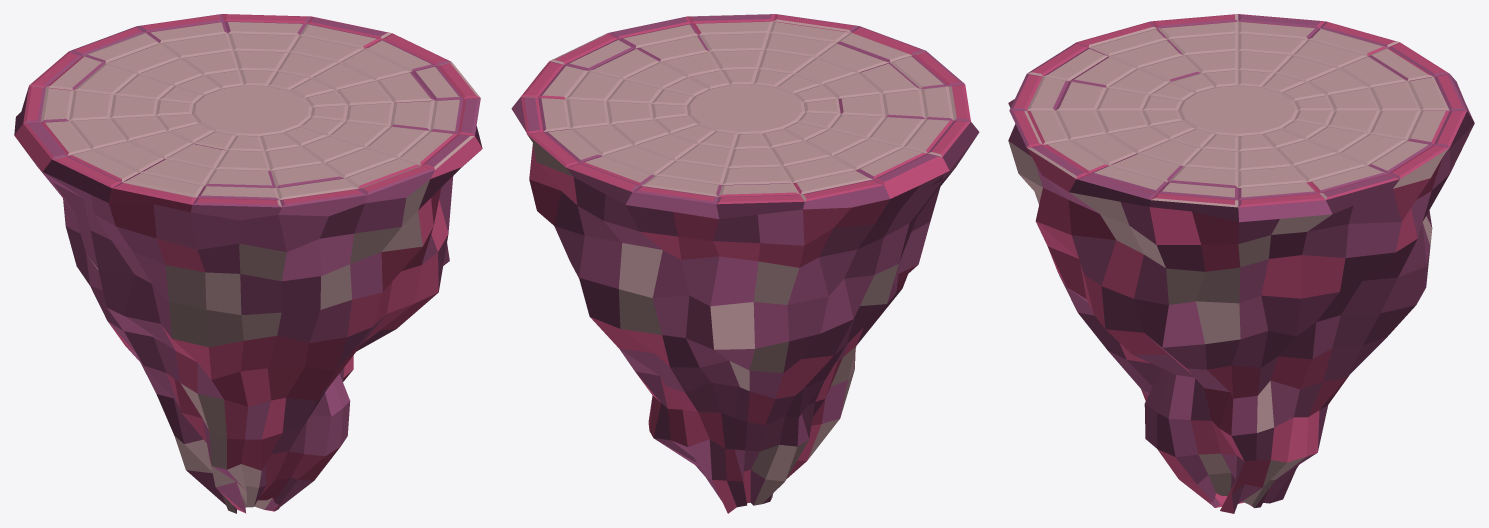
File: NewGround.fbx
3 views of the same model, side by side, from view 1: azimuth 30°, elevation 25°; view 2: azimuth 150°, elevation 25°; view 3: azimuth 270°, elevation 25° (orthographic).
Visible parts, largest first — view 1: Cylinder; view 2: Cylinder; view 3: Cylinder.
Boxes of the visible parts, x1,y1,x2,y2 form: Cylinder: (14, 14, 482, 513); Cylinder: (511, 14, 979, 513); Cylinder: (1008, 14, 1474, 513).
Size of the model in its own units: 2496 by 2267 by 2446.
